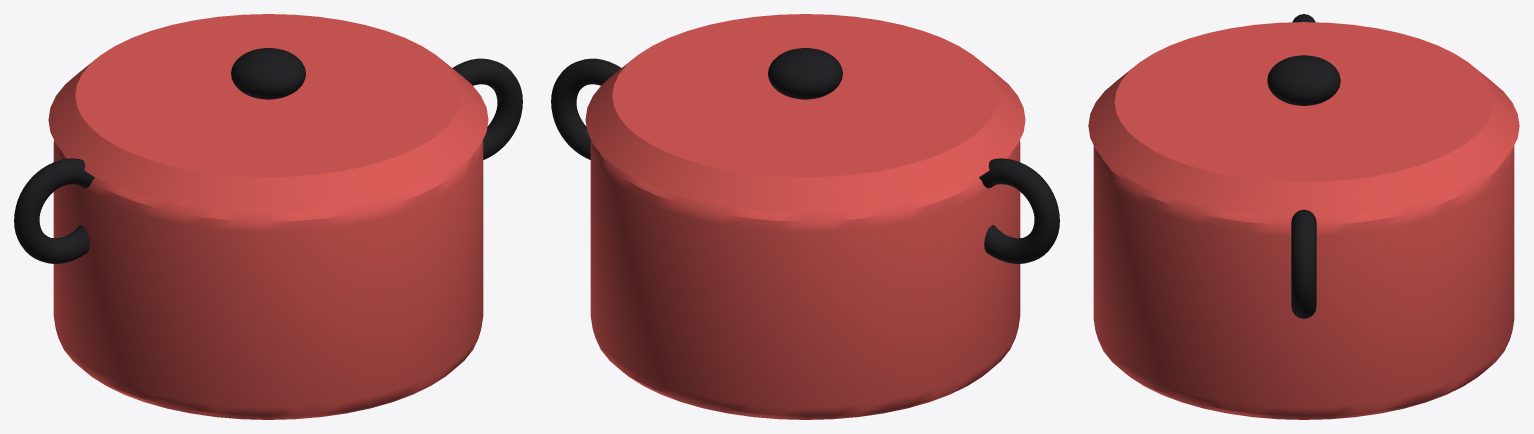
File: pot.glb
3 views of the same model, side by side, from view 1: azimuth 30°, elevation 25°; view 2: azimuth 150°, elevation 25°; view 3: azimuth 270°, elevation 25° (orthographic). The views are drawn at different scales.
Visible parts, largest first — view 1: body.007, lid.001, h-1, h1.001, knob; view 2: body.007, lid.001, h-1, h1.001, knob; view 3: body.007, lid.001, knob, h1.001.
Boxes of the visible parts, bbox=[...] form: body.007: bbox=[53, 140, 483, 419]; lid.001: bbox=[48, 14, 488, 212]; h-1: bbox=[14, 158, 94, 263]; h1.001: bbox=[452, 58, 522, 159]; knob: bbox=[231, 48, 305, 99]; body.007: bbox=[590, 140, 1020, 419]; lid.001: bbox=[585, 14, 1025, 212]; h-1: bbox=[979, 158, 1059, 263]; h1.001: bbox=[551, 58, 621, 159]; knob: bbox=[768, 48, 842, 99]; body.007: bbox=[1093, 146, 1514, 419]; lid.001: bbox=[1088, 22, 1519, 216]; knob: bbox=[1267, 55, 1340, 105]; h1.001: bbox=[1291, 209, 1316, 318].
Bounding box in the file's own units: 0.544 × 0.291 × 0.41.
